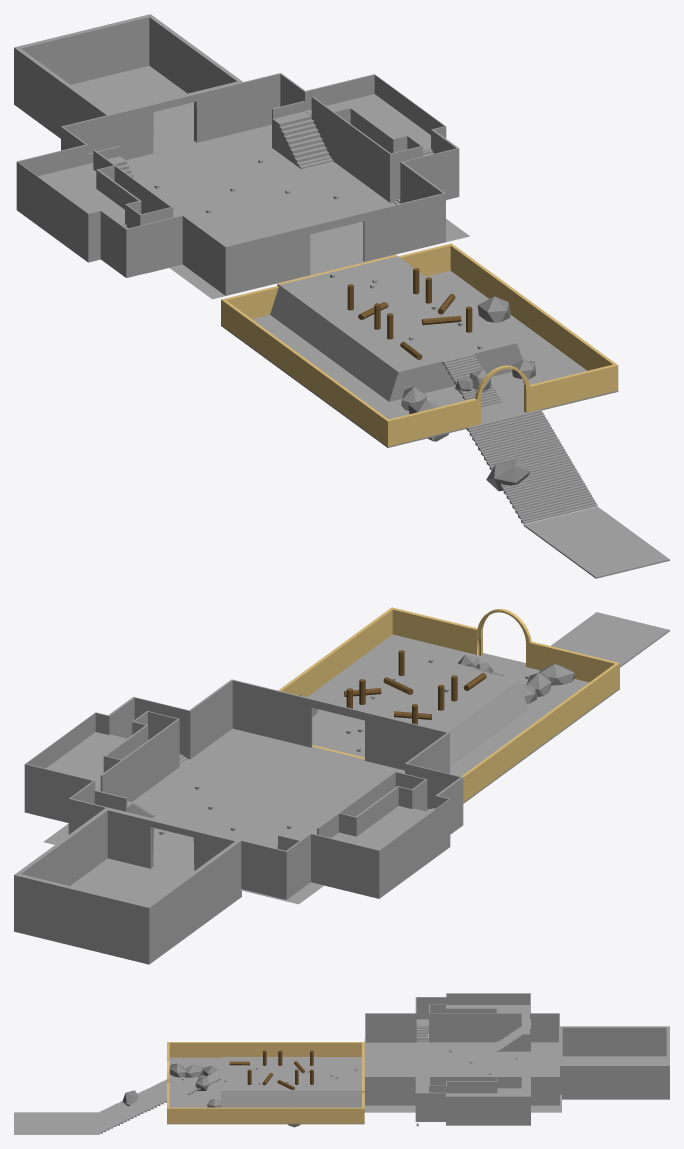
Rendered from lvl3_blockout.fbx.
The picture shows the model from 3 angles, top to bottom: view 1: azimuth 30°, elevation 25°; view 2: azimuth 150°, elevation 25°; view 3: azimuth 270°, elevation 25°; orthographic projection. The views are drawn at different scales.
Visible parts, largest first — view 1: Walls, Floor, Floor_Second_Area_Up, Walls_Last_Hit, Walls_First_Area, Stairs, Floor_Second_Area, Floor_First_Area, Floor_L, Floor_R, Stone_6; view 2: Walls, Walls_Last_Hit, Floor, Walls_First_Area, Floor_Second_Area_Up, Floor_Second_Area, Floor_L, Floor_R, Floor_First_Area, Stairs; view 3: Walls, Walls_Last_Hit, Floor, Floor_Second_Area_Up, Walls_First_Area, Stairs, Floor_Second_Area, Floor_R, Floor_First_Area, Floor_L.
Boxes of the visible parts, <box> form: Walls: <box>16,73,459,295</box>; Floor: <box>126,124,469,299</box>; Floor_Second_Area_Up: <box>270,256,522,401</box>; Walls_Last_Hit: <box>14,14,243,152</box>; Walls_First_Area: <box>221,243,618,446</box>; Stairs: <box>88,111,597,523</box>; Floor_Second_Area: <box>221,270,618,447</box>; Floor_First_Area: <box>523,506,669,578</box>; Floor_L: <box>16,164,125,262</box>; Floor_R: <box>305,94,431,159</box>; Stone_6: <box>486,459,530,491</box>; Walls: <box>24,679,463,899</box>; Walls_Last_Hit: <box>14,807,241,964</box>; Floor: <box>43,728,404,904</box>; Walls_First_Area: <box>278,607,619,802</box>; Floor_Second_Area_Up: <box>312,652,528,766</box>; Floor_Second_Area: <box>307,634,619,803</box>; Floor_L: <box>311,806,450,898</box>; Floor_R: <box>24,732,126,822</box>; Floor_First_Area: <box>551,612,669,667</box>; Stairs: <box>94,653,525,850</box>; Walls: <box>365,993,559,1121</box>; Walls_Last_Hit: <box>559,1026,669,1099</box>; Floor: <box>364,1038,561,1112</box>; Floor_Second_Area_Up: <box>221,1057,361,1107</box>; Walls_First_Area: <box>167,1042,364,1123</box>; Stairs: <box>99,1019,530,1133</box>; Floor_Second_Area: <box>167,1057,364,1124</box>; Floor_R: <box>446,1087,530,1125</box>; Floor_First_Area: <box>14,1112,99,1134</box>; Floor_L: <box>447,1005,529,1041</box>.
Size of the model in its own units: 114 by 41.34 by 306.
